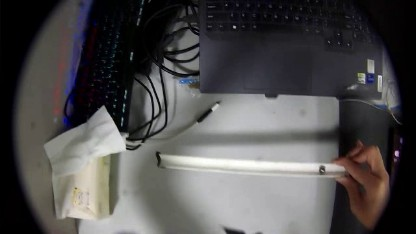gangzhu: (315, 163, 326, 175)
